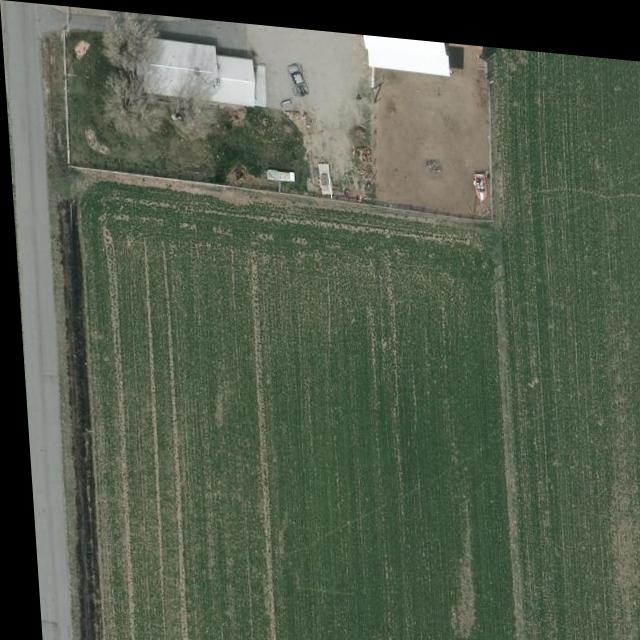vehicle: (286, 57, 308, 92)
